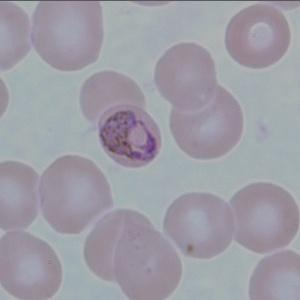Infected: (97, 103, 162, 166)
Uninfected: (39, 156, 111, 234), (113, 219, 182, 300), (84, 208, 159, 282), (170, 84, 242, 160), (223, 182, 298, 253), (33, 0, 104, 71), (165, 191, 234, 258), (224, 2, 290, 67), (154, 43, 216, 111), (0, 232, 62, 300), (79, 70, 146, 129)
